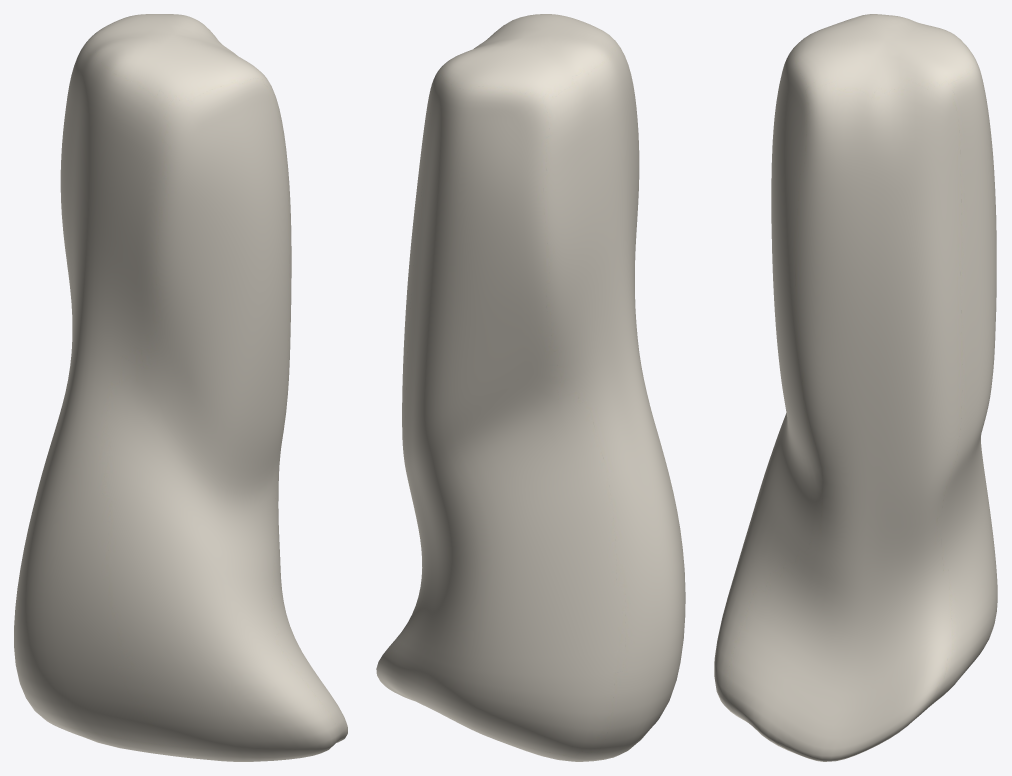
The model's file is leftUpperArm.dae.
The picture shows the model from 3 angles, left to right: view 1: azimuth 30°, elevation 25°; view 2: azimuth 150°, elevation 25°; view 3: azimuth 270°, elevation 25°; orthographic projection. The views are drawn at different scales.
Visible parts, largest first — view 1: Disc; view 2: Disc; view 3: Disc.
Part boxes in pixels (<box>): Disc: <box>14,14,347,761</box>; Disc: <box>376,14,685,761</box>; Disc: <box>714,14,997,761</box>.
Size of the model in its own units: 83.65 by 198 by 76.31.
1 material, 1 textured.
